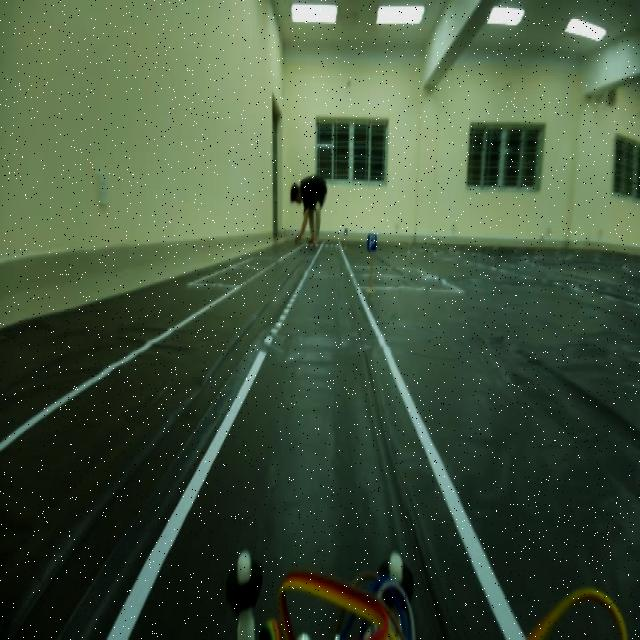parking: (364, 224, 382, 259)
